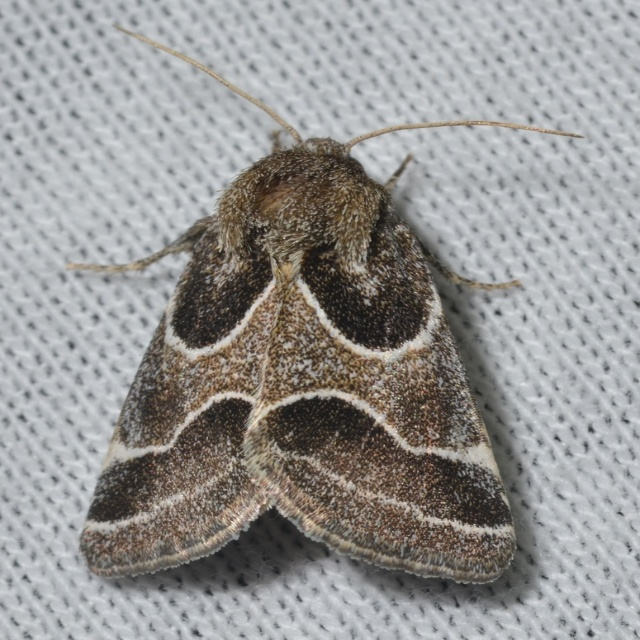Moths and butterflies: (57, 26, 591, 589)
